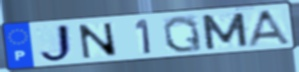1: (133, 18, 153, 56)
A: (244, 8, 293, 48)
J: (37, 23, 77, 64)
M: (199, 11, 251, 52)
N: (76, 22, 120, 60)
Q: (161, 14, 205, 54)
